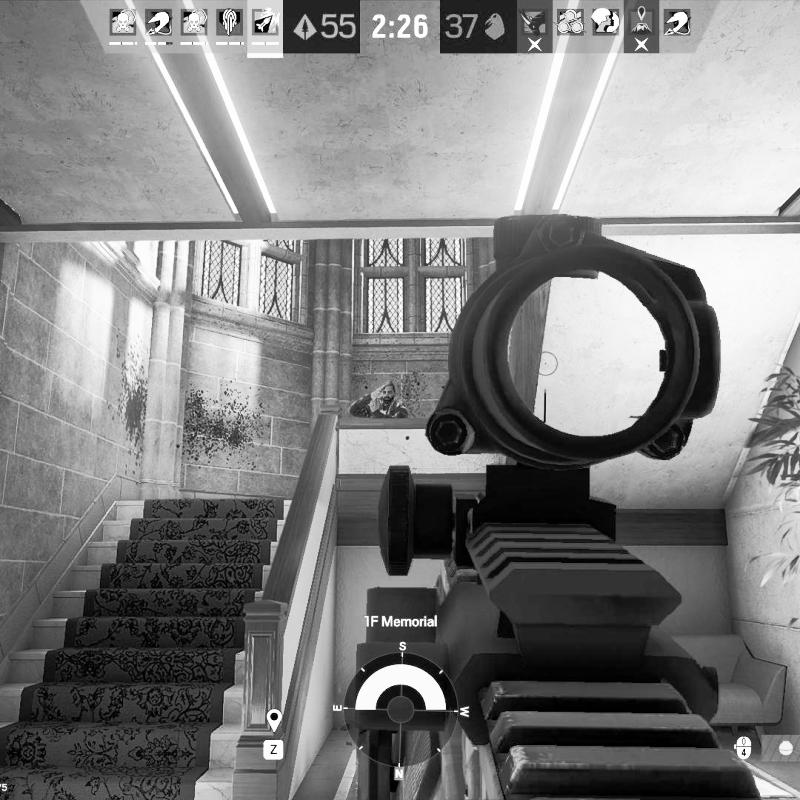Character: (348, 380, 409, 420)
Head: (380, 383, 396, 404)
